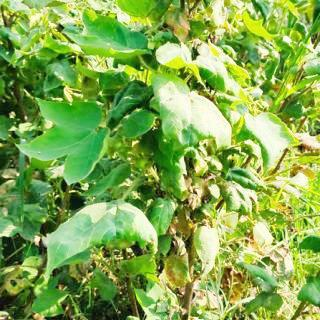curl: (10, 82, 129, 190), (142, 64, 235, 167)
